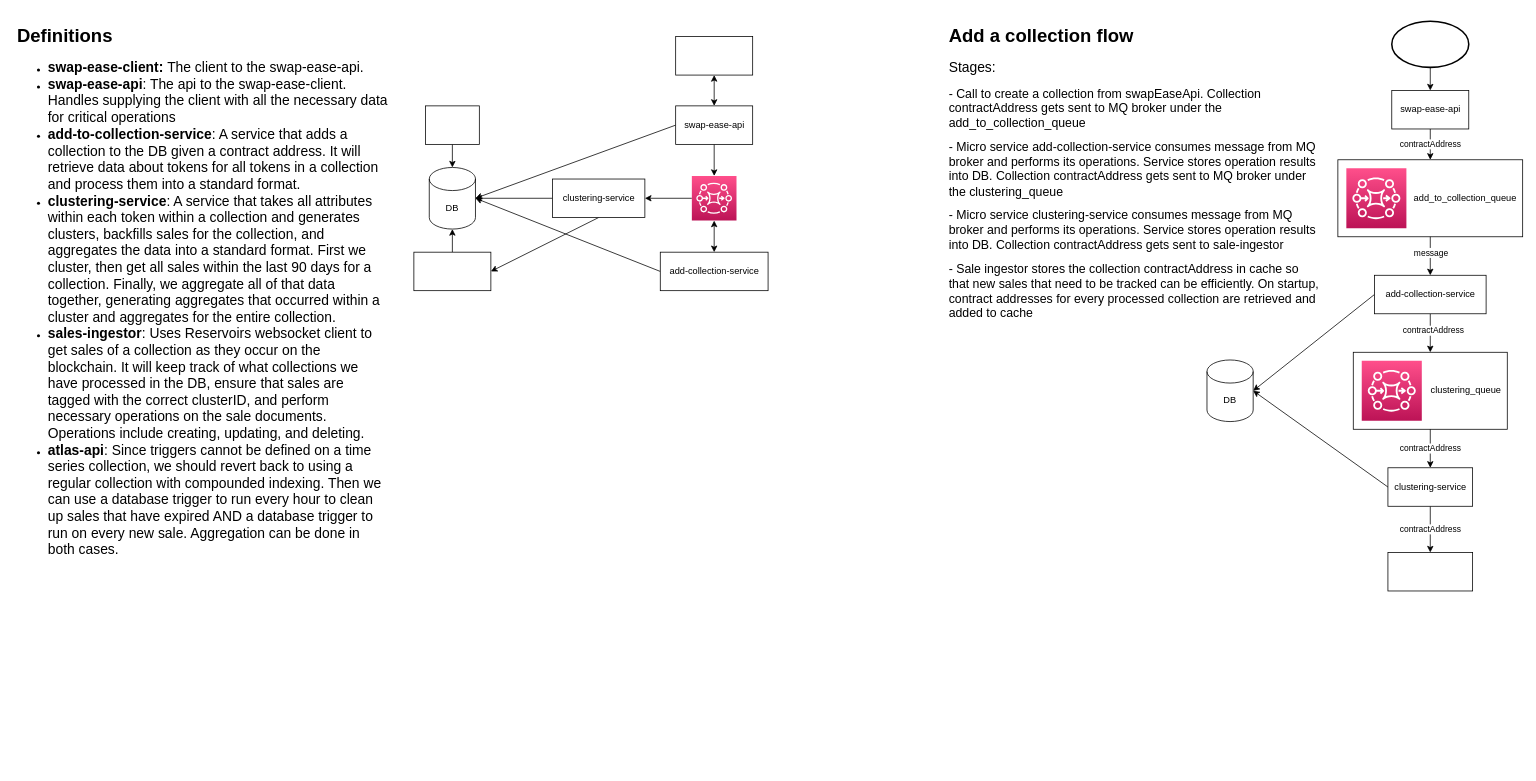
This 1536x781 diagram has some shape labels left out. The shapes that lost their labels are listed below. From the top down, each one's centre as x and y in pixels, then its label:
the point at 714,55: swap-ease-client
the point at 1430,44: Add a collection
the point at 452,124: cron-job
the point at 452,271: sales-ingestor
the point at 1430,571: sale-ingestor
